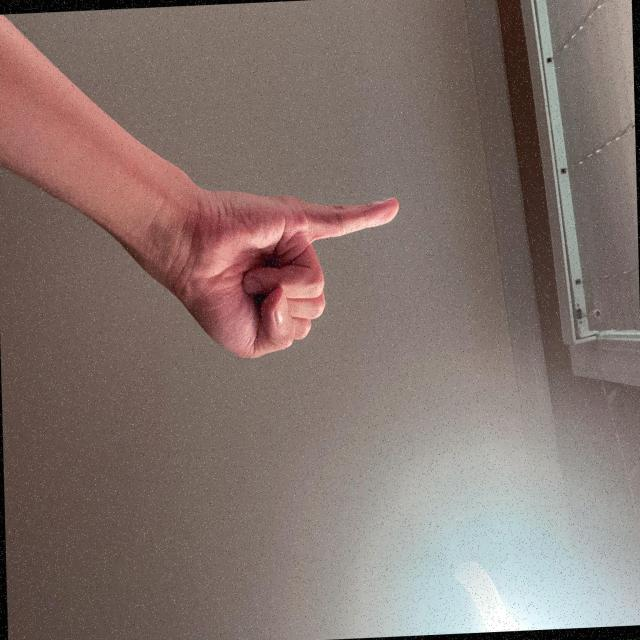I: (280, 305, 442, 640)
